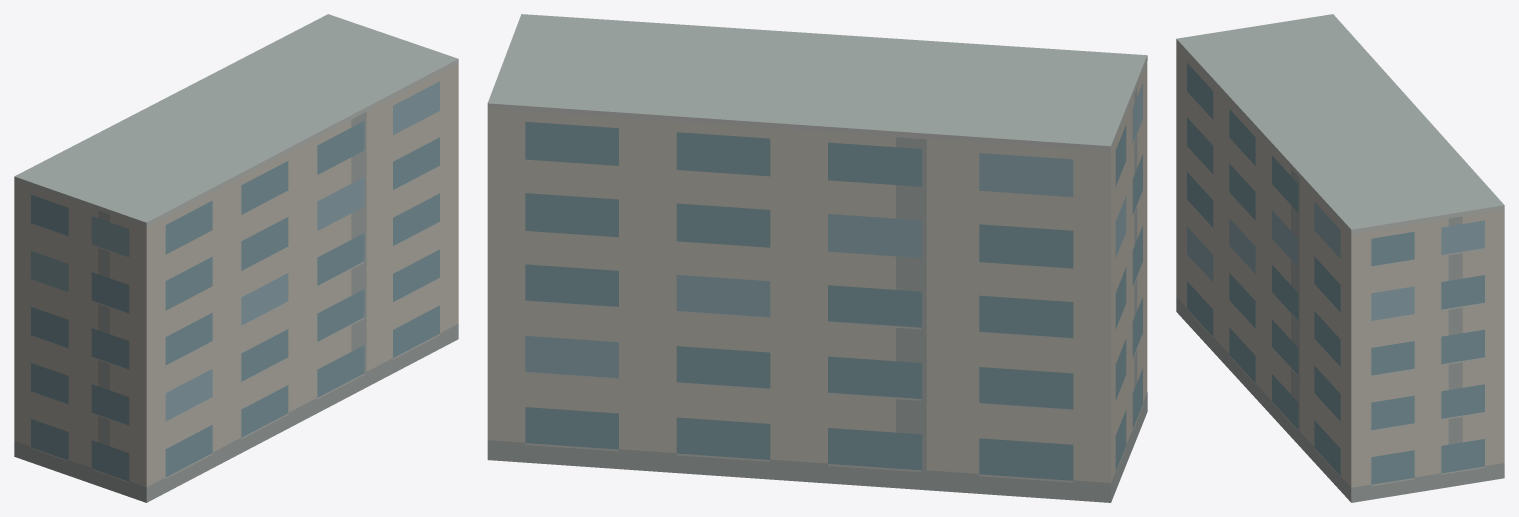
Rendered from residential-7059db19-bfce-43e4-b891-3ab9504cf045.glb.
3 renders of one model, left to right at view 1: azimuth 30°, elevation 25°; view 2: azimuth 150°, elevation 25°; view 3: azimuth 270°, elevation 25°, orthographic. The views are drawn at different scales.
Visible parts, largest first — view 1: residential-7059db19-bfce-43e4-b891-3ab9504cf045.tmp; view 2: residential-7059db19-bfce-43e4-b891-3ab9504cf045.tmp; view 3: residential-7059db19-bfce-43e4-b891-3ab9504cf045.tmp.
Boxes of the visible parts, x1,y1,x2,y2 form: residential-7059db19-bfce-43e4-b891-3ab9504cf045.tmp: (14, 14, 458, 502); residential-7059db19-bfce-43e4-b891-3ab9504cf045.tmp: (487, 14, 1147, 502); residential-7059db19-bfce-43e4-b891-3ab9504cf045.tmp: (1176, 14, 1504, 502).
Size of the model in its own units: 25.86 by 15.25 by 16.62.
